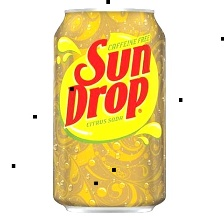can: (50, 7, 169, 215)
